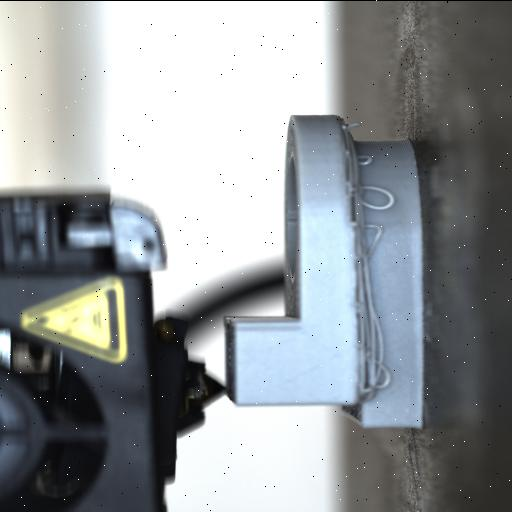layer_shift: (339, 116, 371, 426)
